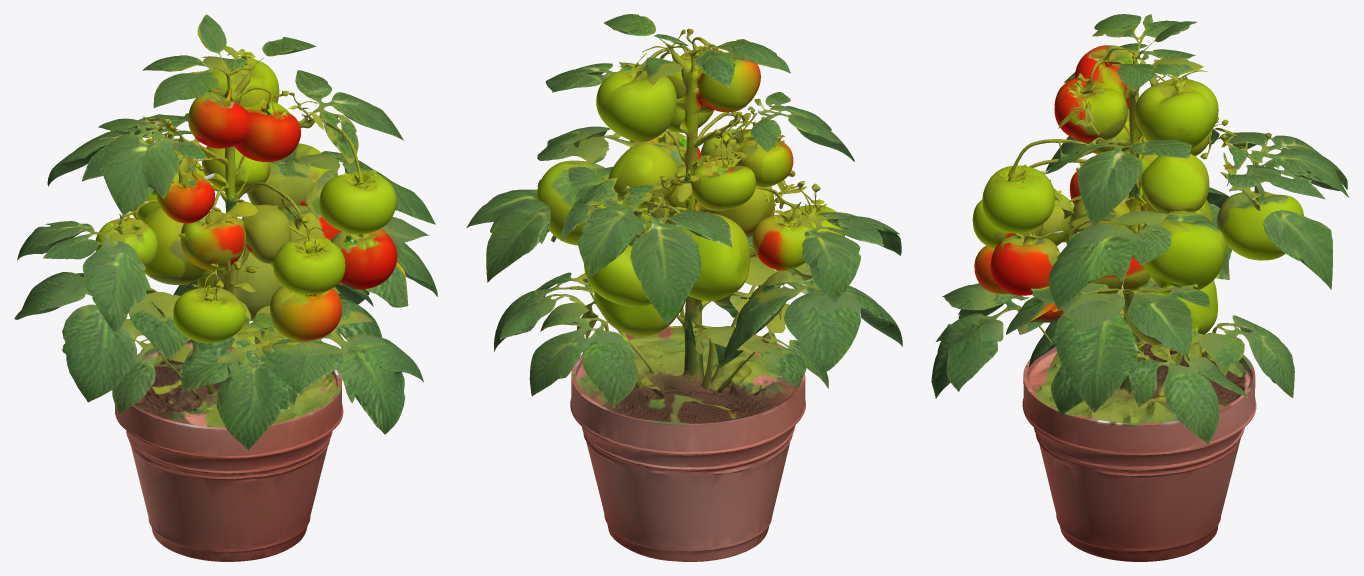
The model's file is tomat1.glb.
3 views of the same model, side by side, from view 1: azimuth 30°, elevation 25°; view 2: azimuth 150°, elevation 25°; view 3: azimuth 270°, elevation 25° (orthographic). The views are drawn at different scales.
Parts seen in each view (by area): view 1: model; view 2: model; view 3: model.
Boxes of the visible parts, box(x1,y1,x2,y2) form: model: box(14, 14, 437, 561); model: box(466, 14, 902, 561); model: box(931, 14, 1348, 561).
Bounding box in the file's own units: 1.51 × 1.9 × 1.4.
Materials: 1 (1 with a texture image).
